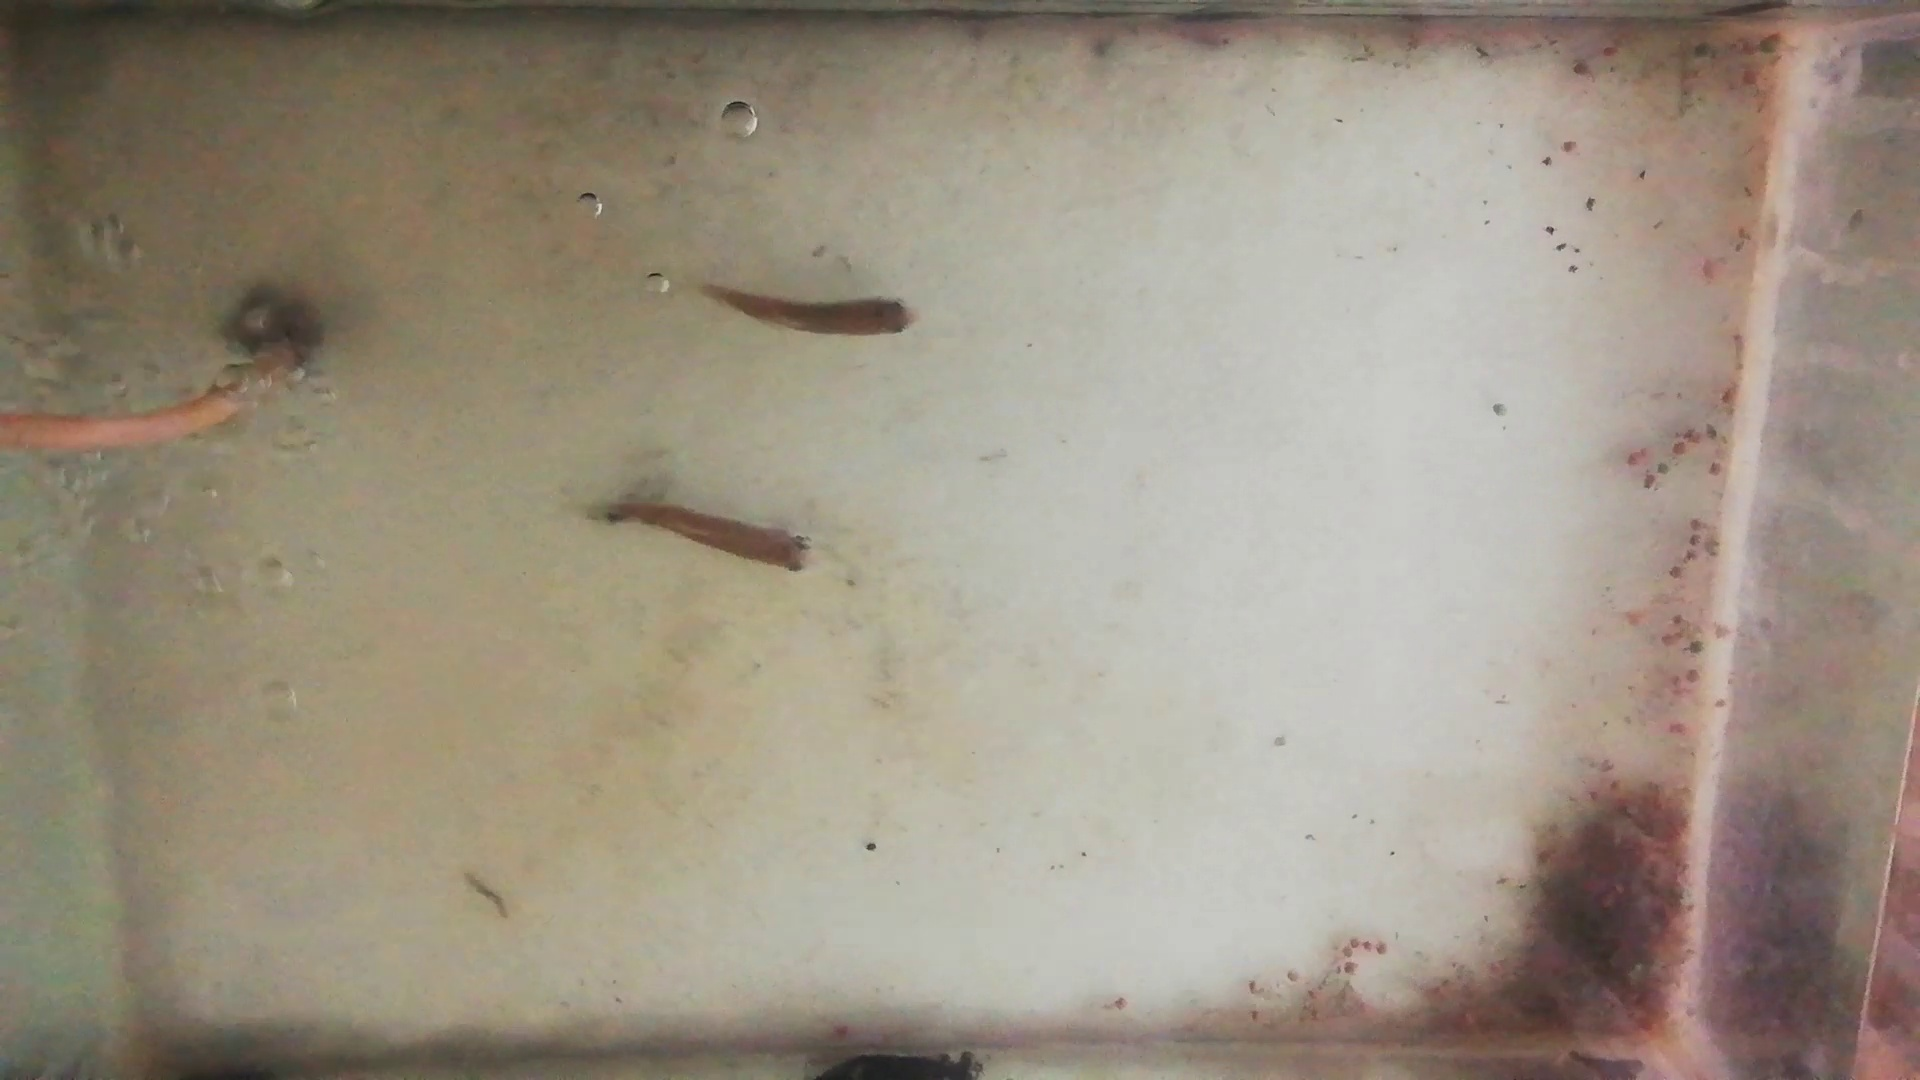fish: (609, 504, 820, 578), (699, 284, 920, 338)
